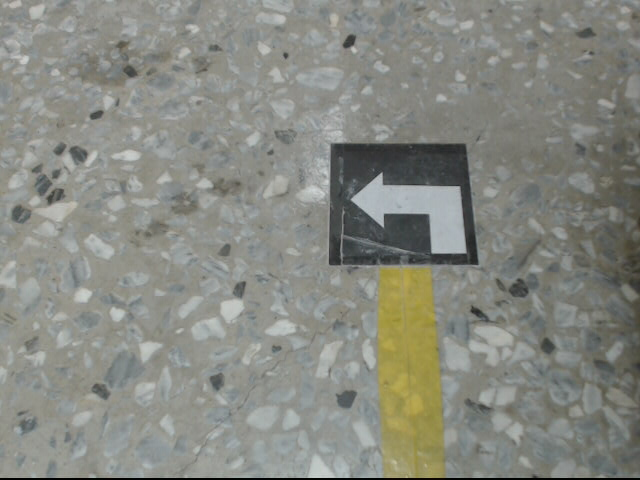left: (328, 141, 481, 266)
